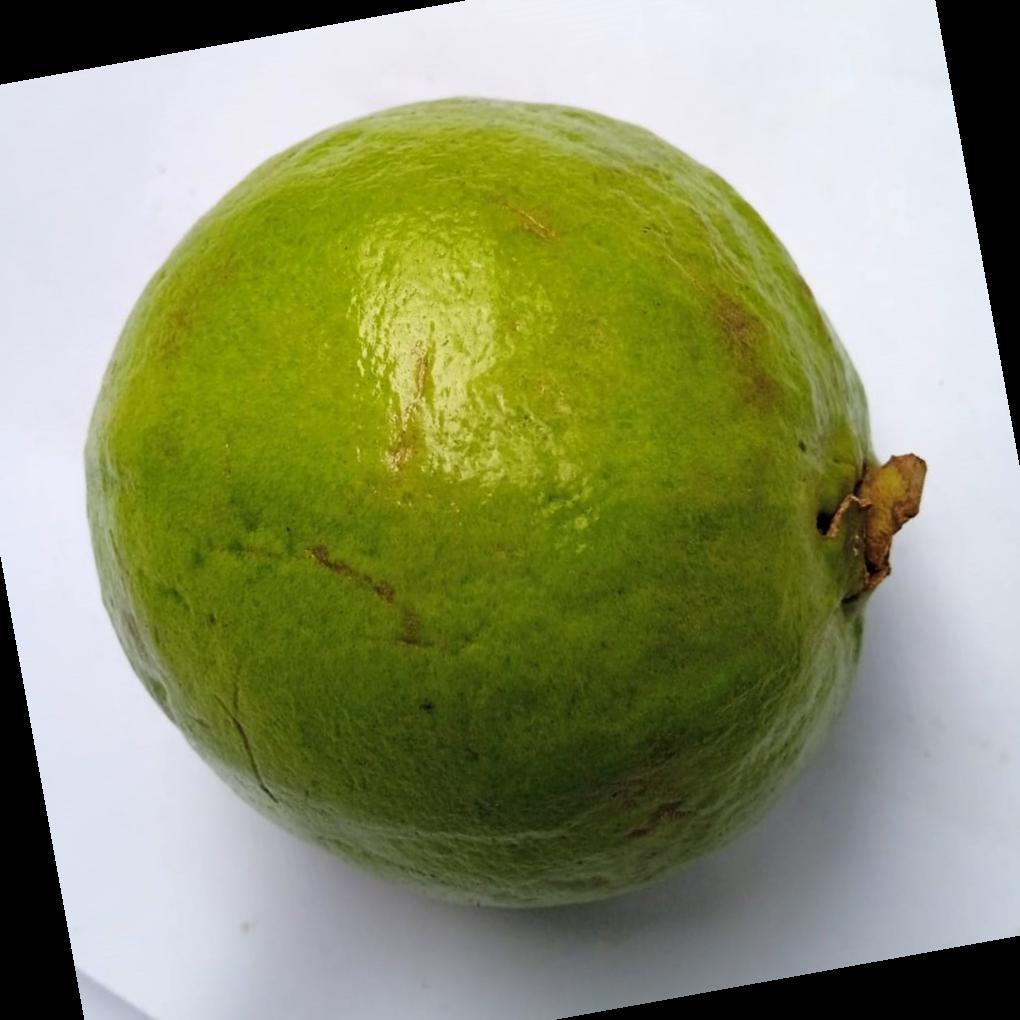FreshGuava: (82, 97, 928, 916)
